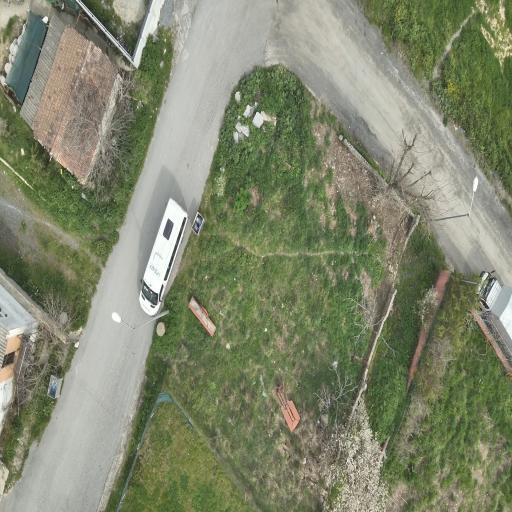car: (140, 199, 187, 315), (478, 272, 511, 359)
